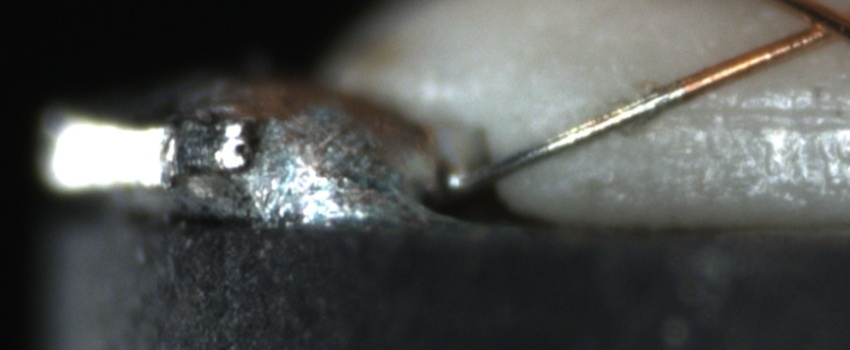CL: (777, 3, 850, 53)
DL: (660, 86, 850, 151)
TS: (452, 84, 684, 192)
